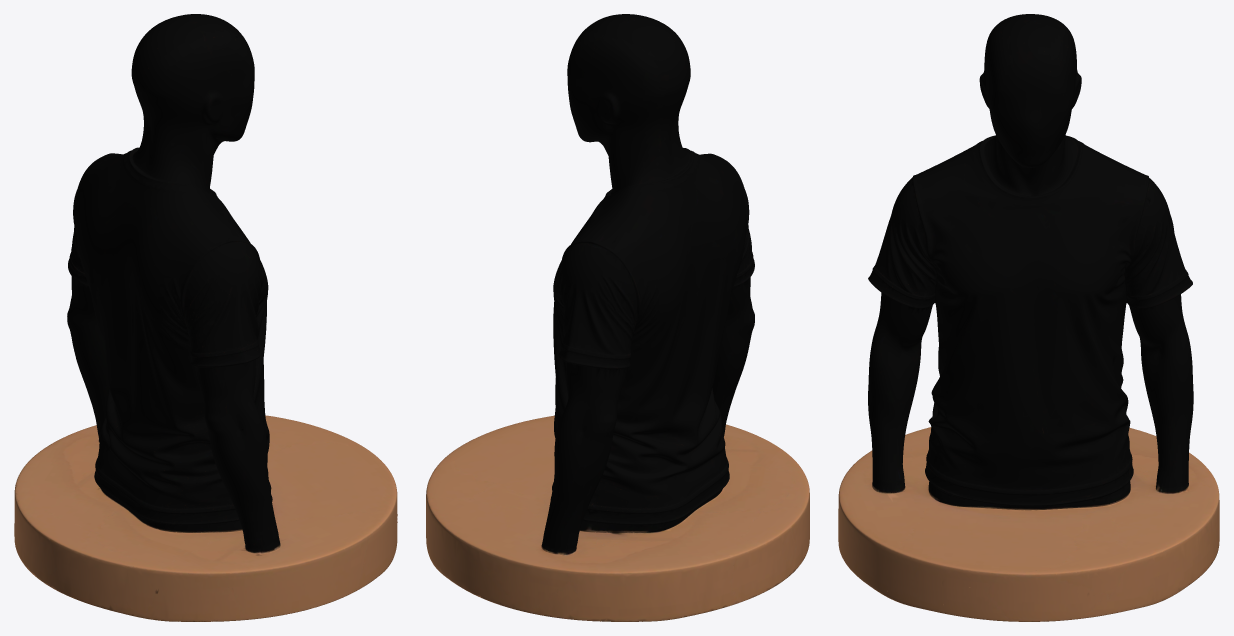
The model's file is manequim-web.glb.
The picture shows the model from 3 angles, left to right: view 1: azimuth 30°, elevation 25°; view 2: azimuth 150°, elevation 25°; view 3: azimuth 270°, elevation 25°; orthographic projection.
Visible parts, largest first — view 1: material; view 2: material; view 3: material.
Part boxes in pixels (x1,y1,x2,y2): material: (14,14,397,621); material: (426,14,809,621); material: (838,14,1219,621).
Bounding box in the file's own units: 0.6619 × 1 × 0.6695.
1 material, 1 textured.
